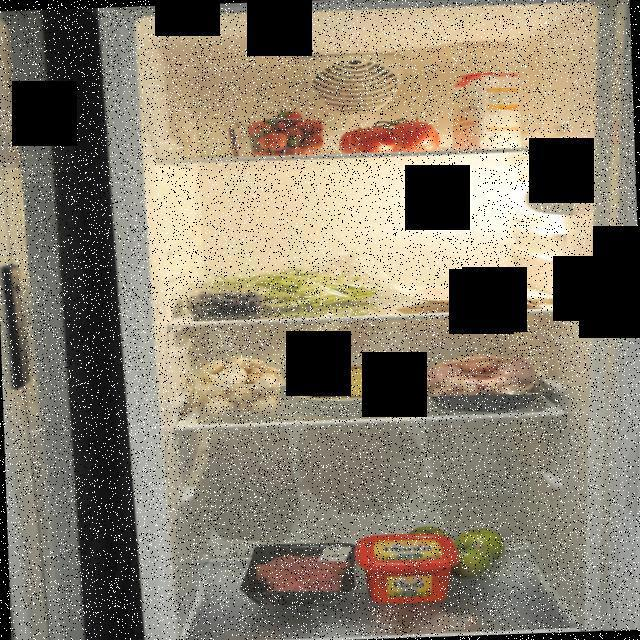Apple: (411, 522, 506, 576)
Beans: (199, 251, 390, 313)
Beef: (251, 540, 345, 604)
Berries strawberries/blueberries: (216, 106, 332, 160), (188, 282, 263, 320)
Butter stick/block: (350, 527, 464, 613)
Cheese: (302, 362, 392, 402)
Chicken: (418, 350, 548, 412)
Ham: (387, 277, 556, 308)
Mushroom: (198, 355, 284, 419)
Sugar: (448, 68, 534, 152)
Tomato: (338, 113, 444, 153)
